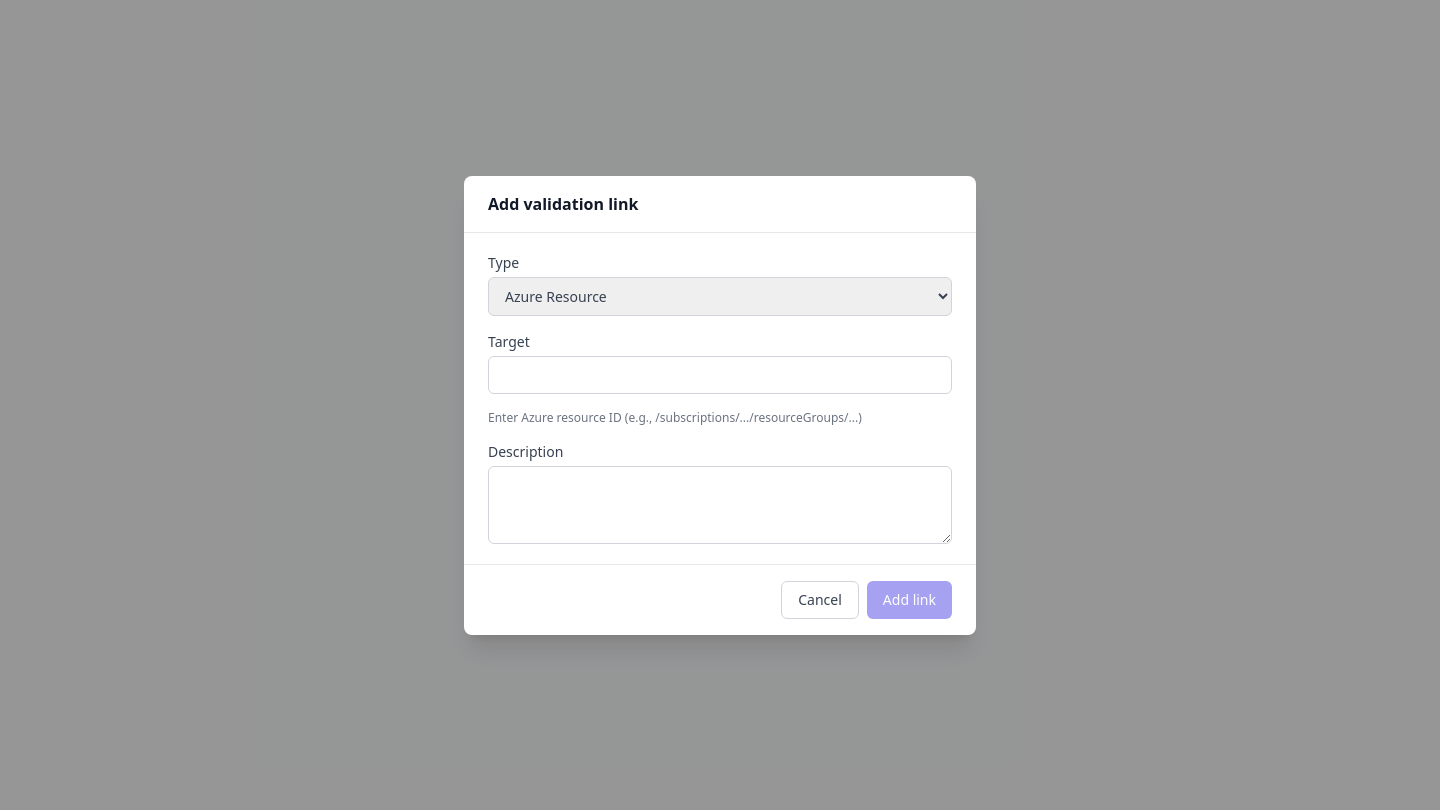
Narrative evidence mutation permissions › guards direct validation-link form submission without a projected permission
The width and height of the screenshot is (1440, 810).
In the field labelled "Target": [720, 374] box [488, 356, 952, 394], type "https://example.test/evidence"
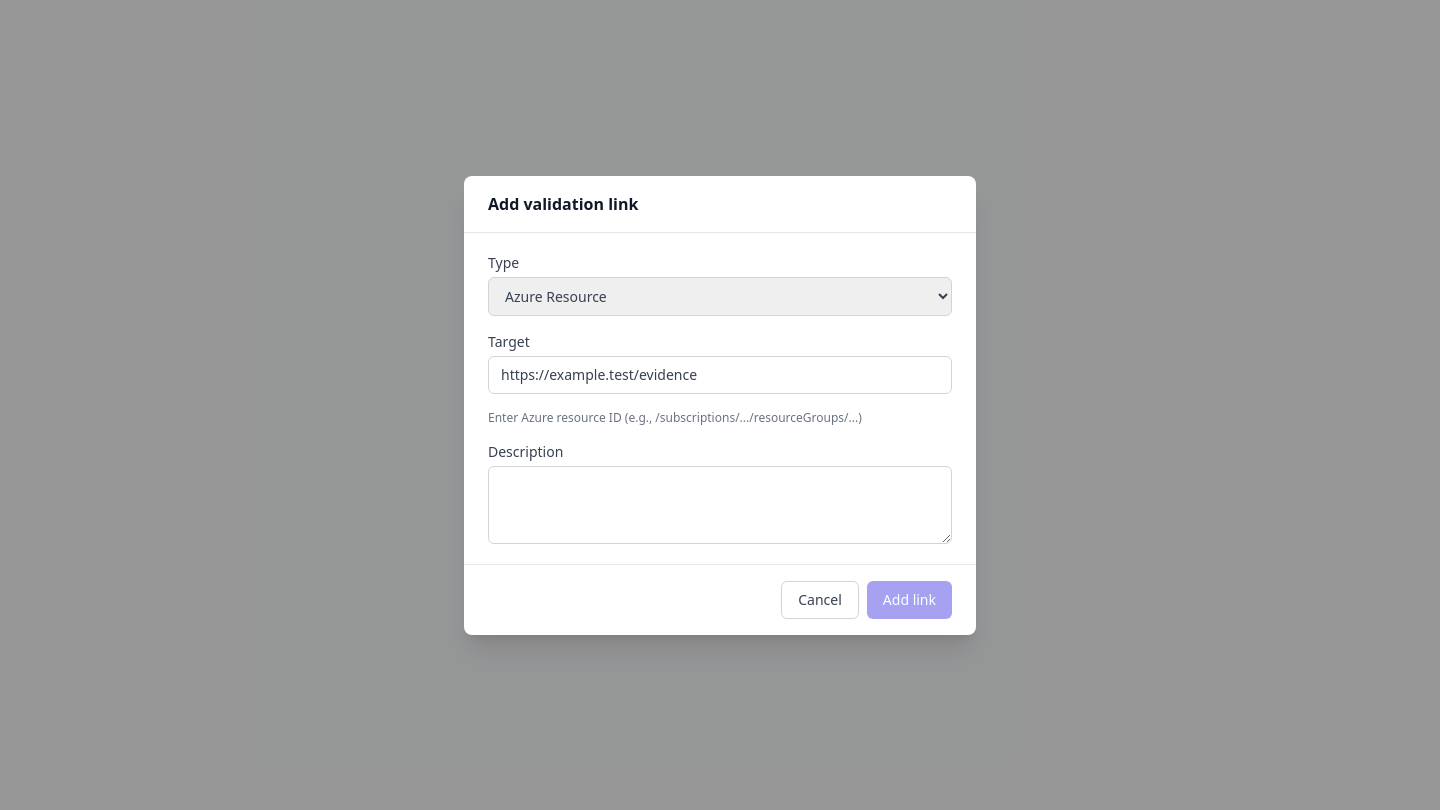
Submit the dialog, box [464, 176, 976, 634]
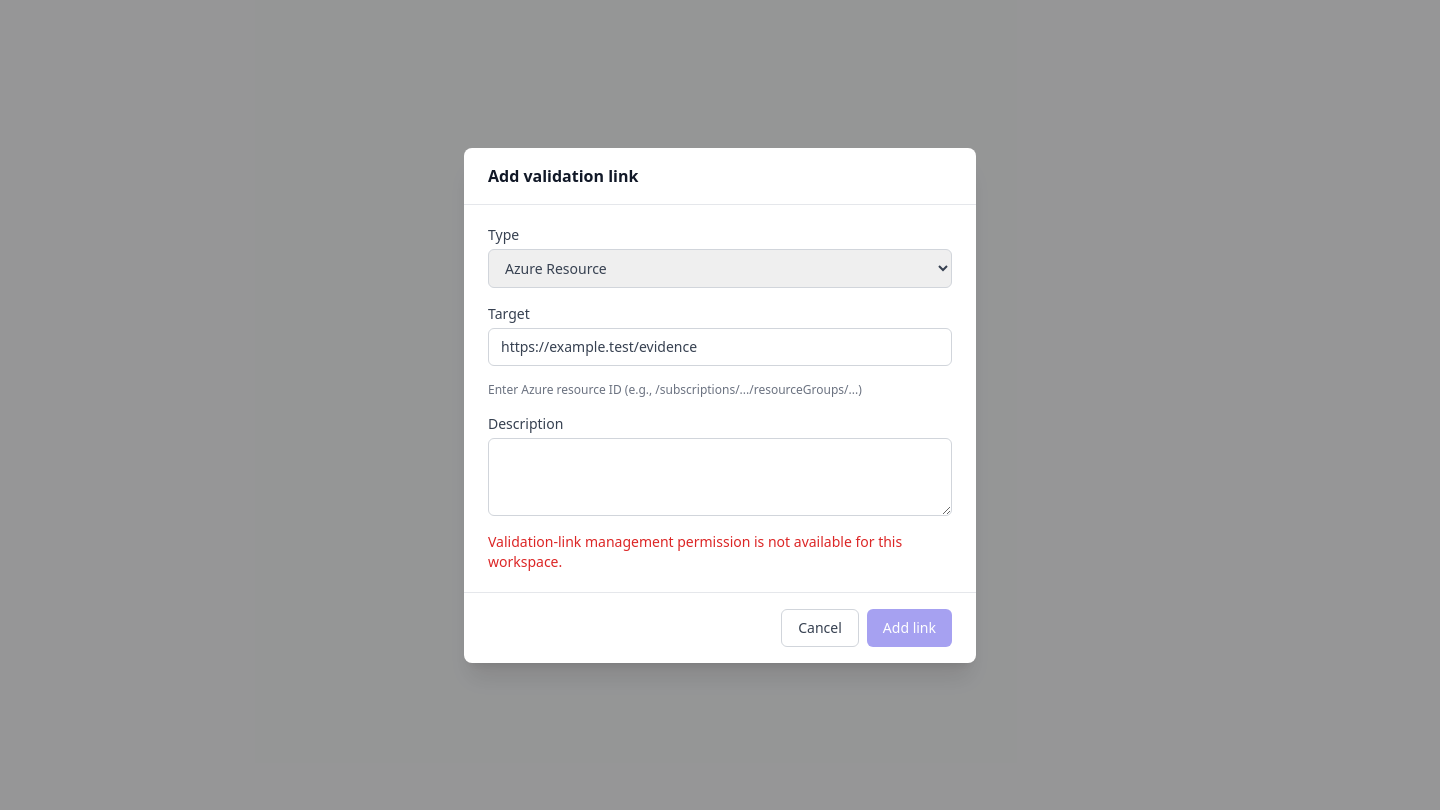
Result: the message shows "permission" at [488, 532, 902, 570]
